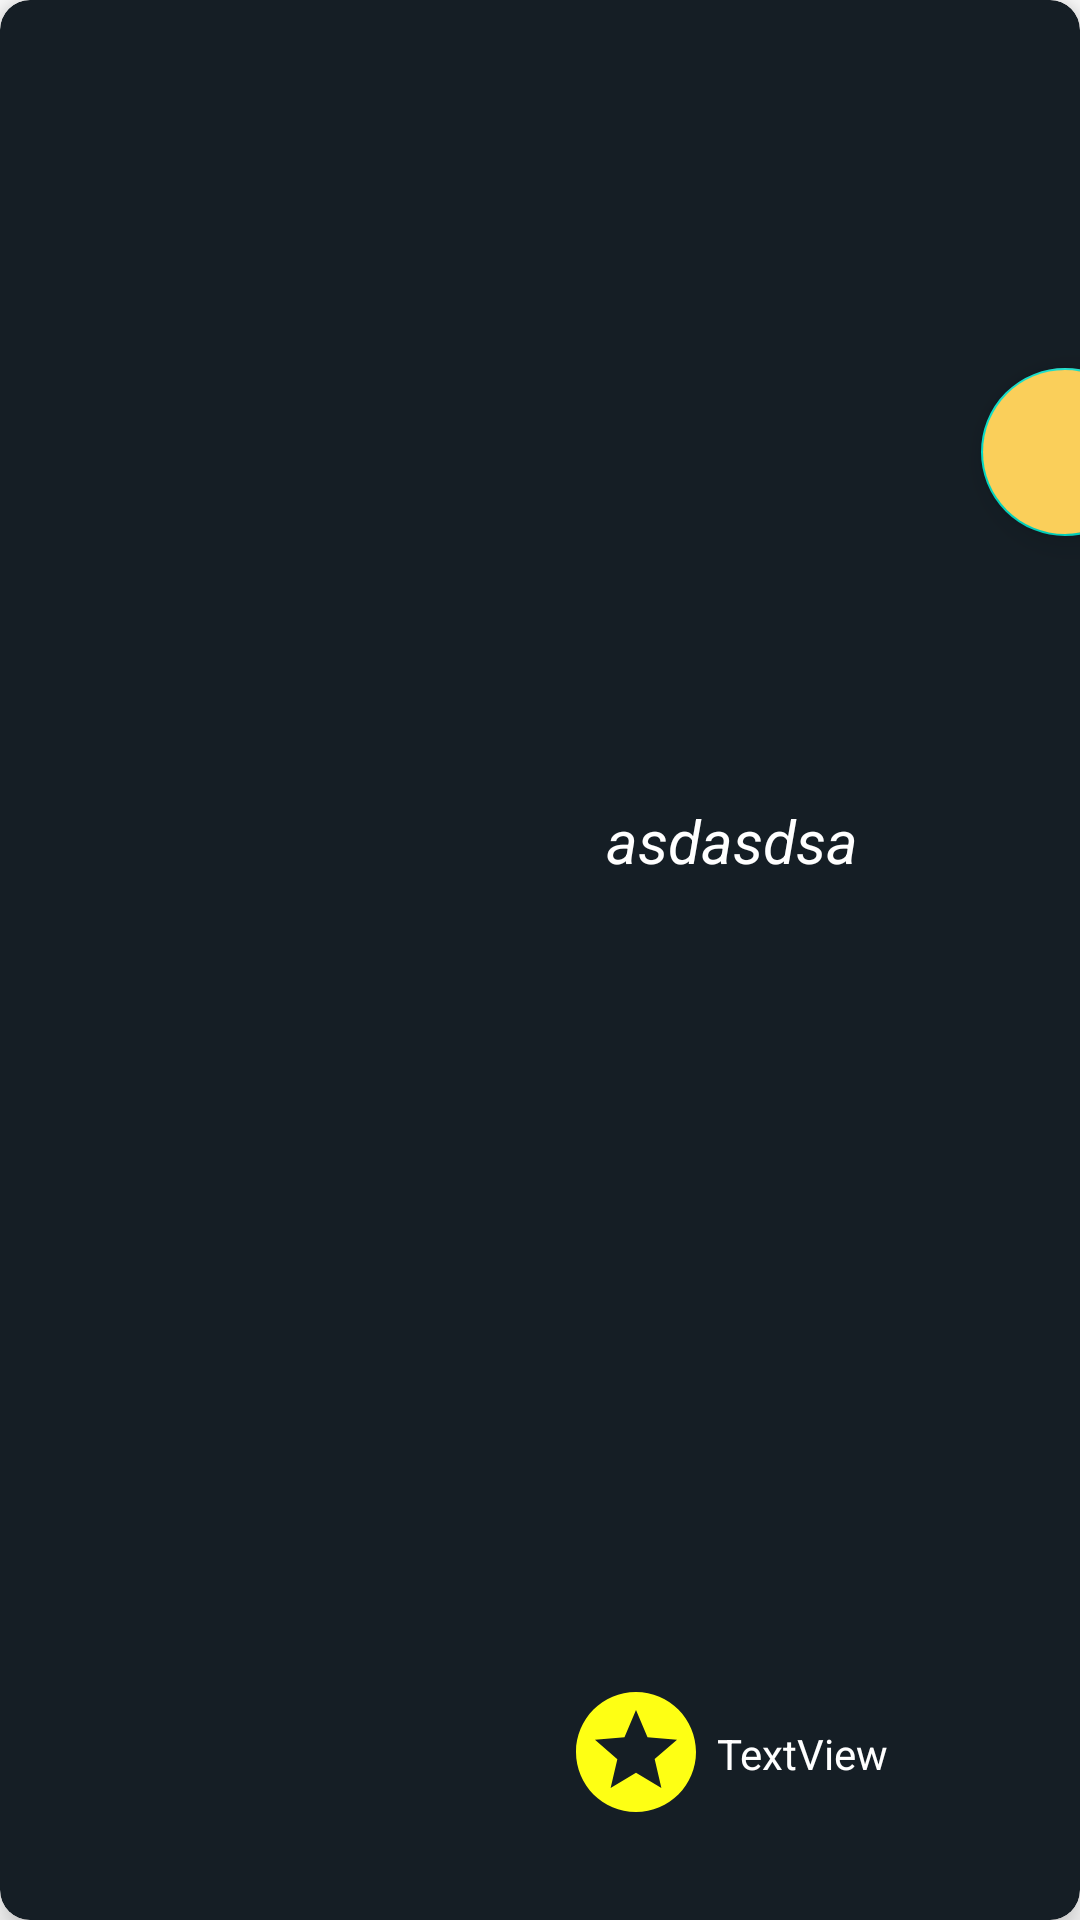

Icon bounding boxes for this 1080 × 1920 phone screenshot, format (left=x1, top=y1, right=x2, bottom=y2):
stars: (left=576, top=1692, right=696, bottom=1812)
